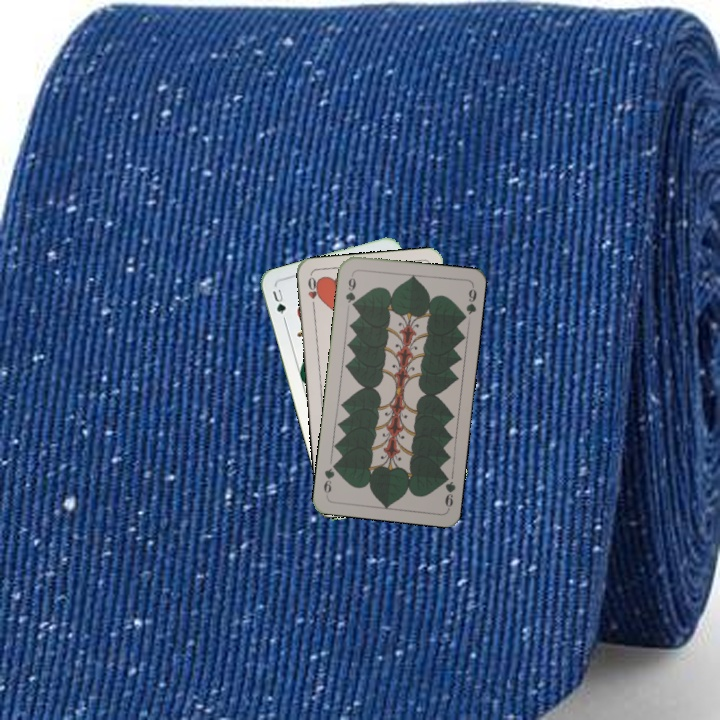G9: (439, 470, 458, 511), (341, 270, 358, 310)
GU: (268, 285, 289, 317)
HO: (304, 273, 321, 313)
